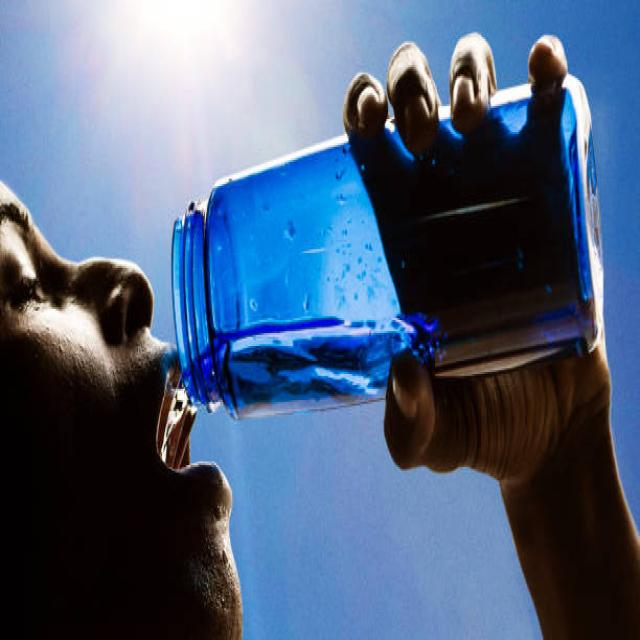blue_bottle: (171, 63, 630, 420)
